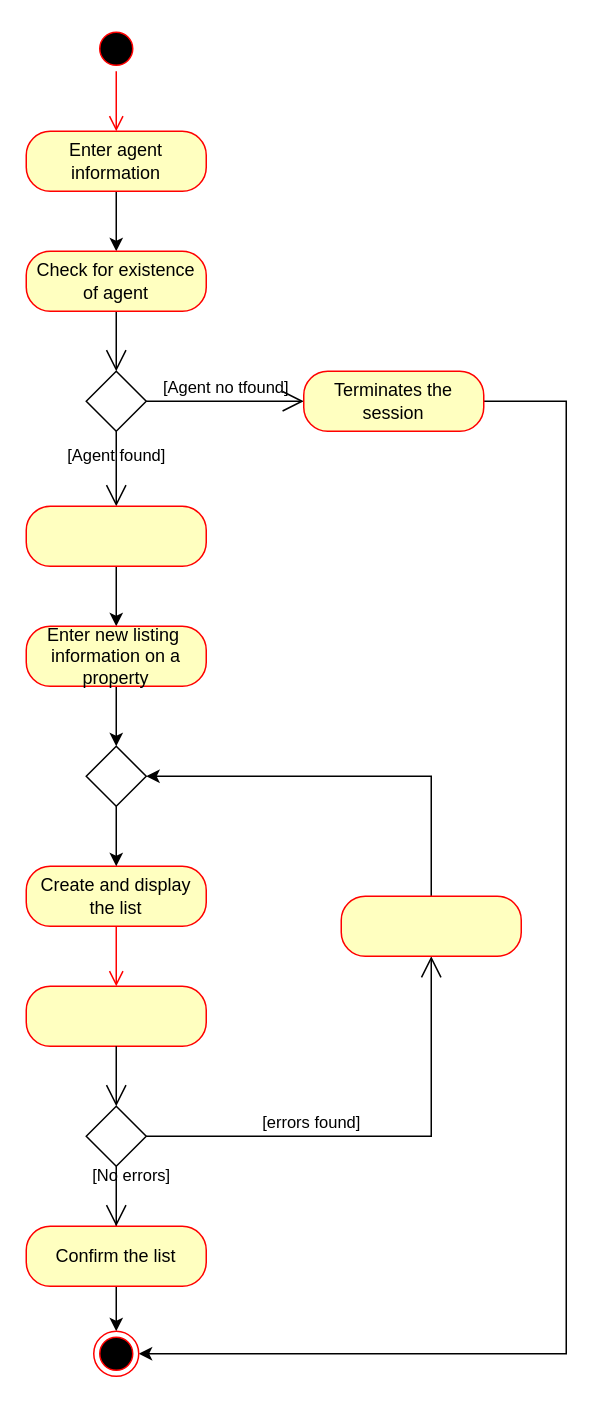
Some shapes in this 605 by 1403 pixel diagram are drawn without their labels. The shapes that lost their labels are listed below. From the top down, each one's box as (x1, y1, x2, y2) in pixels, then its label:
(25, 505, 206, 566): Display agent information
(340, 895, 521, 956): Edit listing
(25, 985, 206, 1046): Verify by checking for errors
